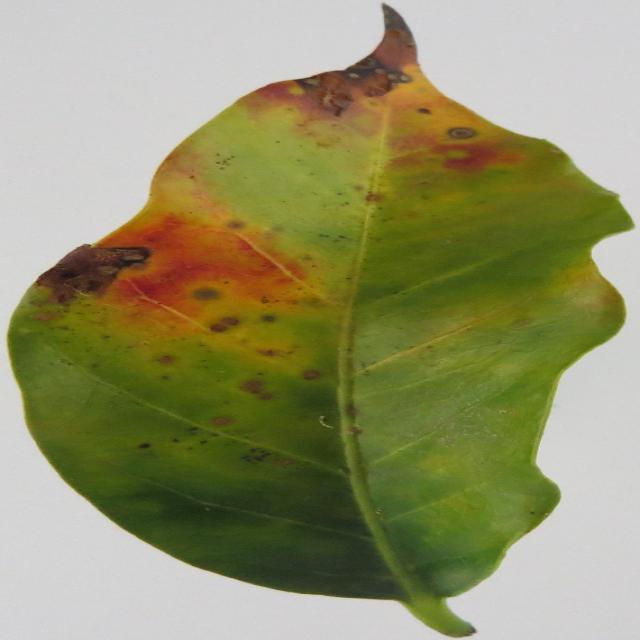DeficienciaNutricional-Fosforo: (11, 8, 630, 616)
